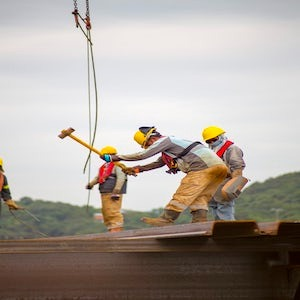safety: (135, 125, 156, 148), (201, 126, 228, 142), (101, 147, 120, 156)
